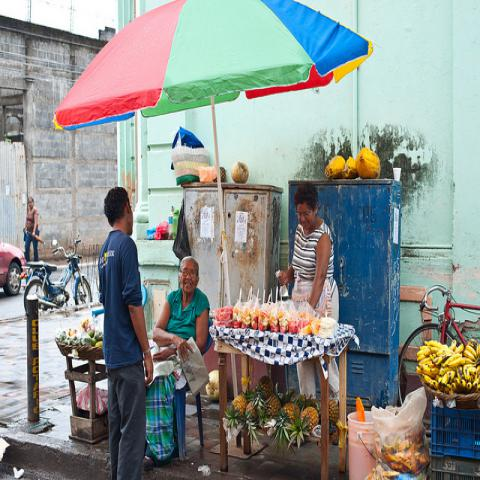car: (0, 238, 26, 296)
motorcycle: (20, 229, 92, 312)
